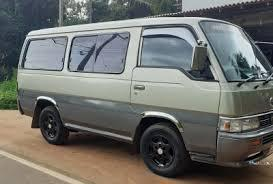Van: (12, 16, 272, 174)
